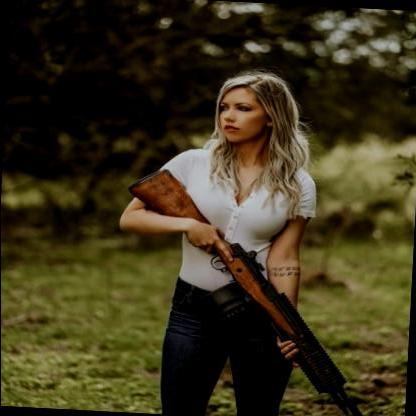rifle: (118, 159, 376, 416)
